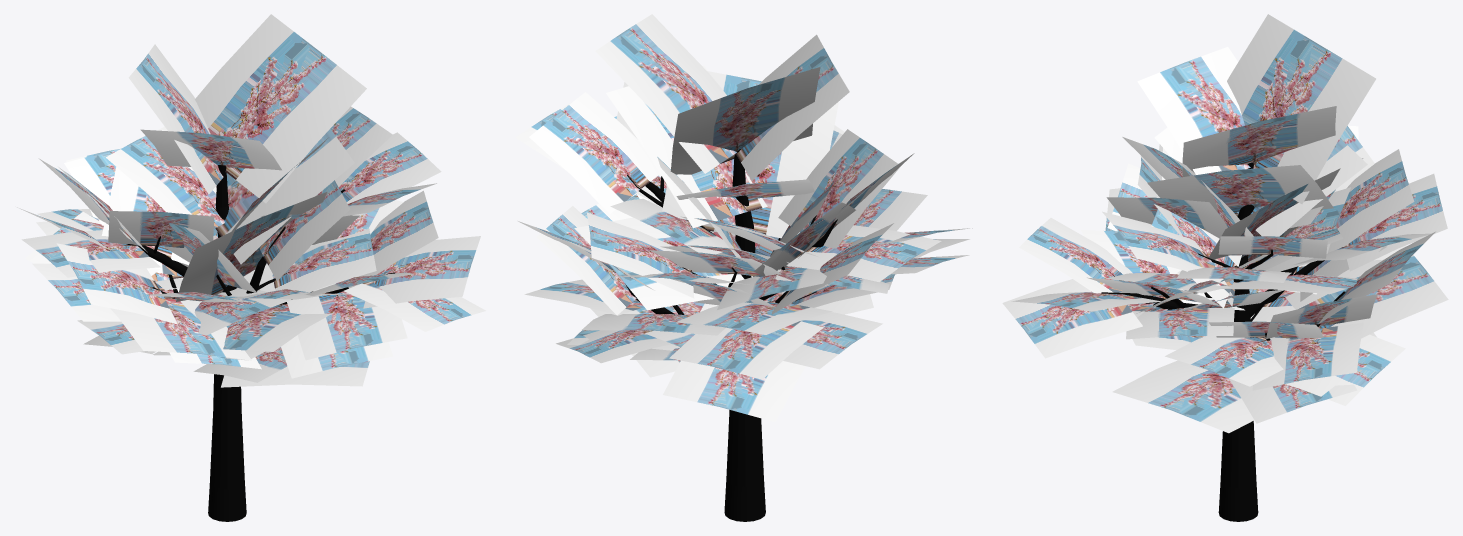
The model's file is cherry_tree.obj.
3 renders of one model, left to right at view 1: azimuth 30°, elevation 25°; view 2: azimuth 150°, elevation 25°; view 3: azimuth 270°, elevation 25°, orthographic. The views are drawn at different scales.
Visible parts, largest first — view 1: cherry_tree group1 leaf leaves leaf__29_ leaf__31_ leaf__33_ lea, pCylinder2 cherry_tree group1; view 2: cherry_tree group1 leaf leaves leaf__29_ leaf__31_ leaf__33_ lea, pCylinder2 cherry_tree group1; view 3: cherry_tree group1 leaf leaves leaf__29_ leaf__31_ leaf__33_ lea, pCylinder2 cherry_tree group1.
Part boxes in pixels (<box>): cherry_tree group1 leaf leaves leaf__29_ leaf__31_ leaf__33_ lea: <box>17,14,485,387</box>; pCylinder2 cherry_tree group1: <box>208,165,246,521</box>; cherry_tree group1 leaf leaves leaf__29_ leaf__31_ leaf__33_ lea: <box>515,14,972,422</box>; pCylinder2 cherry_tree group1: <box>724,149,765,521</box>; cherry_tree group1 leaf leaves leaf__29_ leaf__31_ leaf__33_ lea: <box>1002,14,1448,433</box>; pCylinder2 cherry_tree group1: <box>1218,162,1258,521</box>.
Bounding box in the file's own units: 746 × 862 × 762.
Materials: 2 (1 with a texture image).
